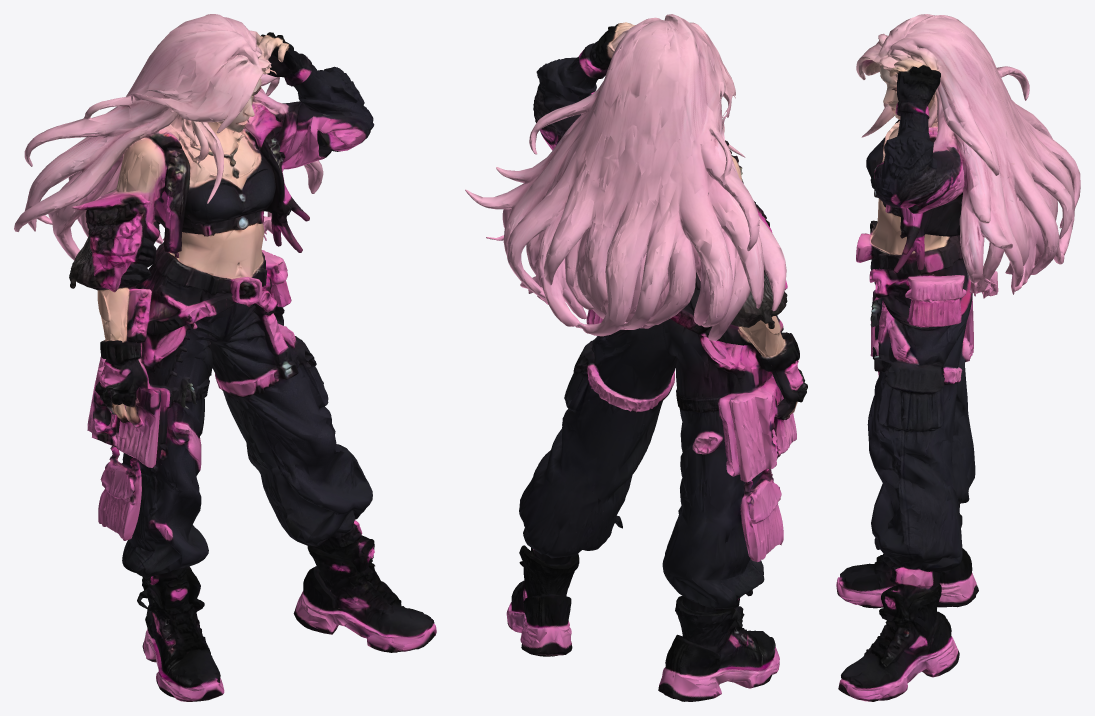
The model's file is sakura.glb.
The picture shows the model from 3 angles, left to right: view 1: azimuth 30°, elevation 25°; view 2: azimuth 150°, elevation 25°; view 3: azimuth 270°, elevation 25°; orthographic projection. The views are drawn at different scales.
Parts seen in each view (by area): view 1: model; view 2: model; view 3: model.
Boxes of the visible parts, <box> form: model: <box>14,14,436,701</box>; model: <box>465,14,807,701</box>; model: <box>836,14,1080,701</box>.
Bounding box in the file's own units: 1.05 × 1.9 × 0.6969.
1 material, 1 textured.
